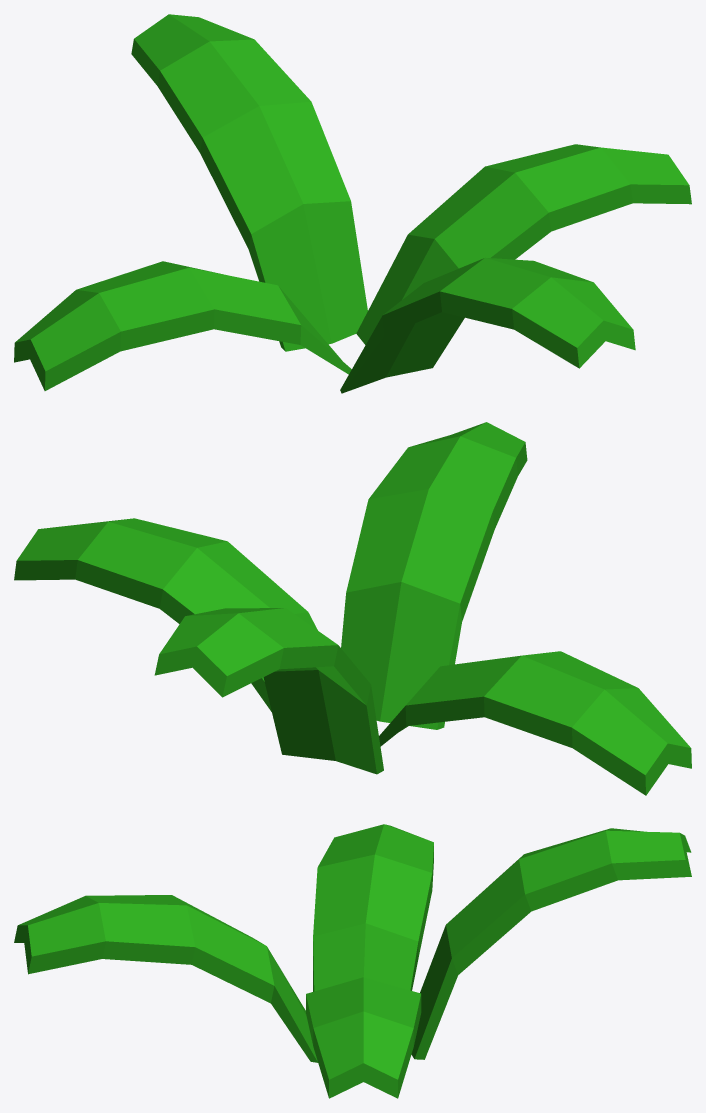
File: MediumBush_Light_High.fbx
The picture shows the model from 3 angles, top to bottom: view 1: azimuth 30°, elevation 25°; view 2: azimuth 150°, elevation 25°; view 3: azimuth 270°, elevation 25°; orthographic projection. The views are drawn at different scales.
Parts seen in each view (by area): view 1: MediumBush_Light_High; view 2: MediumBush_Light_High; view 3: MediumBush_Light_High.
Boxes of the visible parts, x1=… form: MediumBush_Light_High: x1=14, y1=14, x2=691, y2=393; MediumBush_Light_High: x1=14, y1=422, x2=691, y2=795; MediumBush_Light_High: x1=14, y1=824, x2=691, y2=1098.
Size of the model in its own units: 125 by 42.15 by 127.
